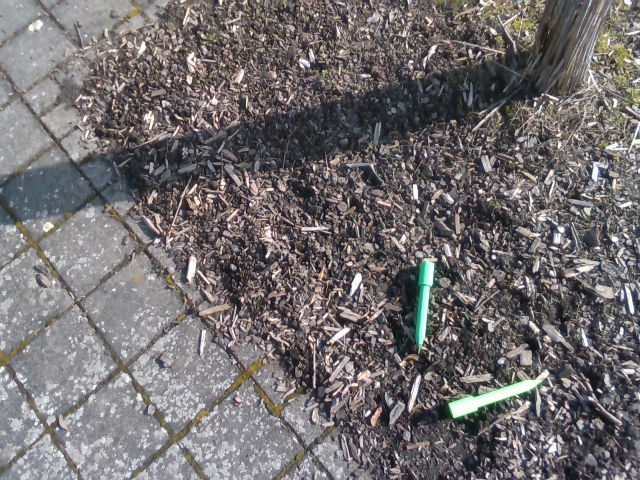Probe: (440, 373, 551, 423), (409, 255, 438, 358)
